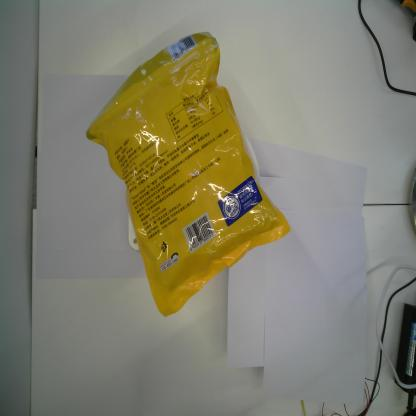Dried Food: (85, 31, 291, 318)
